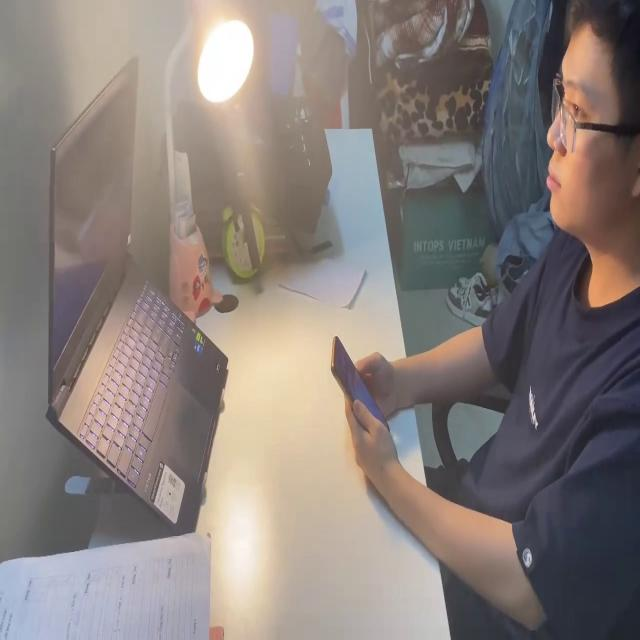book: (0, 530, 215, 640), (274, 238, 368, 316)
laptop: (42, 50, 231, 529)
phone: (329, 335, 392, 445)
student: (349, 0, 640, 640)
